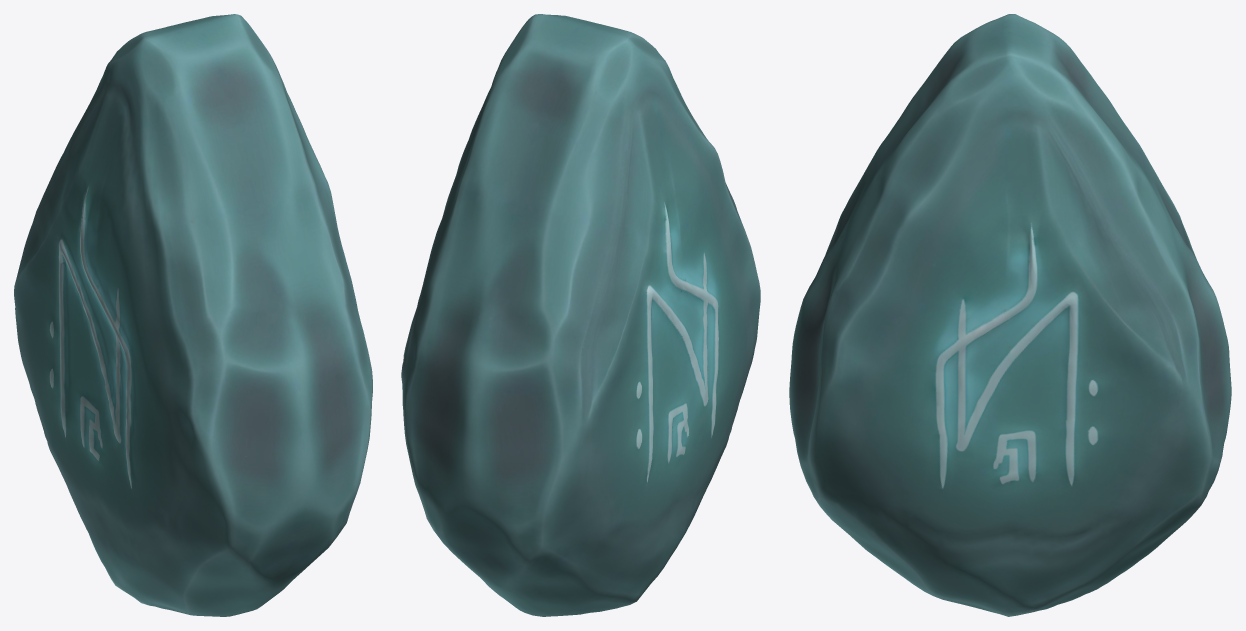
File: glowing+crystal+3d+model.fbx
The picture shows the model from 3 angles, left to right: view 1: azimuth 30°, elevation 25°; view 2: azimuth 150°, elevation 25°; view 3: azimuth 270°, elevation 25°; orthographic projection.
Visible parts, largest first — view 1: tripo_node_5bdc64d3; view 2: tripo_node_5bdc64d3; view 3: tripo_node_5bdc64d3.
Boxes of the visible parts, <box> form: tripo_node_5bdc64d3: <box>14,14,372,616</box>; tripo_node_5bdc64d3: <box>401,14,760,616</box>; tripo_node_5bdc64d3: <box>789,14,1231,616</box>.
Bounding box in the file's own units: 0.3698 × 0.9992 × 0.7028.
1 material, 1 textured.
